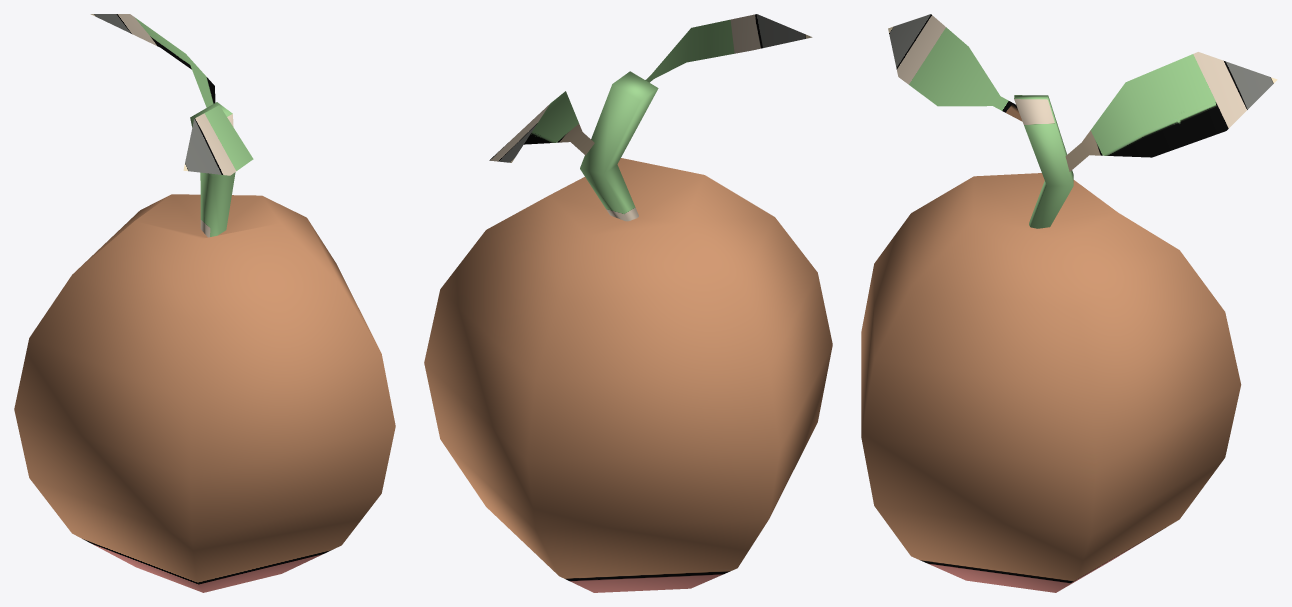
File: Fruit.fbx
3 renders of one model, left to right at view 1: azimuth 30°, elevation 25°; view 2: azimuth 150°, elevation 25°; view 3: azimuth 270°, elevation 25°, orthographic. The views are drawn at different scales.
Visible parts, largest first — view 1: Fruit_LOD0; view 2: Fruit_LOD0; view 3: Fruit_LOD0.
Part boxes in pixels (x1,y1,x2,y2): Fruit_LOD0: (14,14,395,592); Fruit_LOD0: (424,14,832,592); Fruit_LOD0: (861,14,1277,592).
Size of what is drawn, in the model's own units: 27.14 by 39.57 by 28.29.
Materials: 1 (1 with a texture image).
